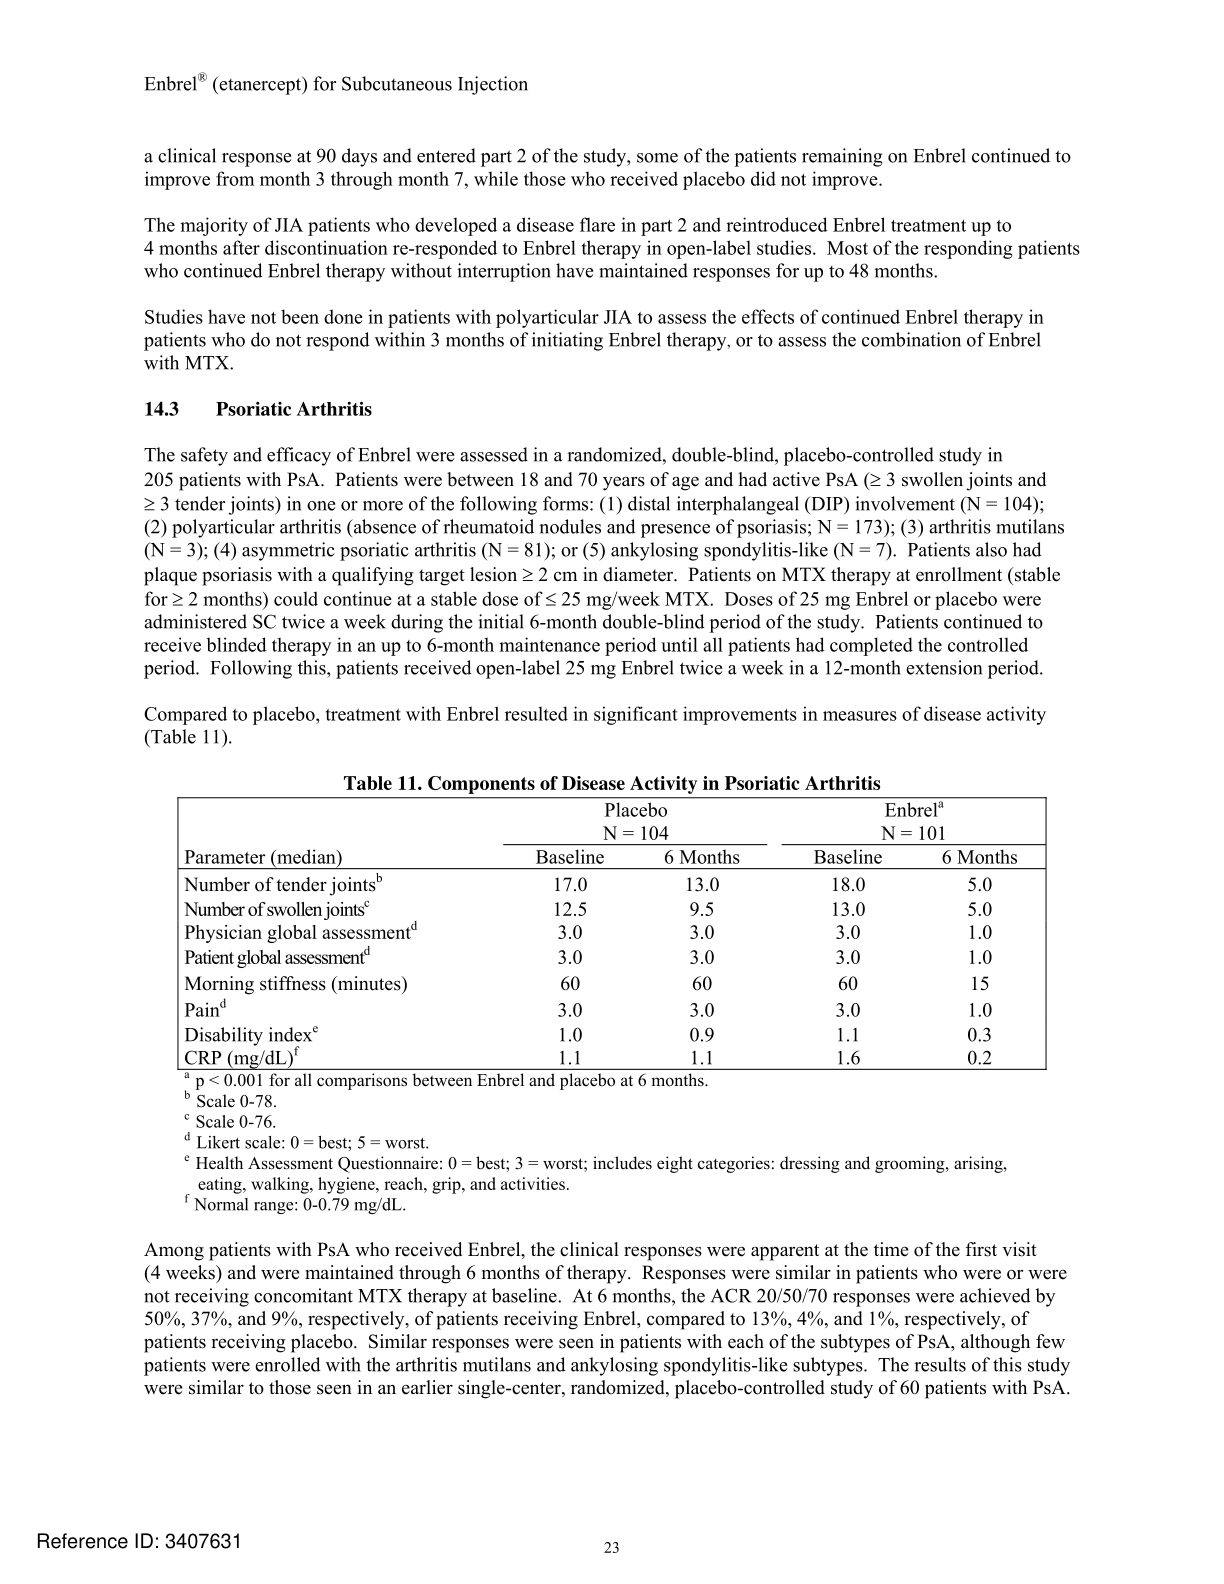partial_lined_merged_cells: (175, 795, 1049, 1074)
